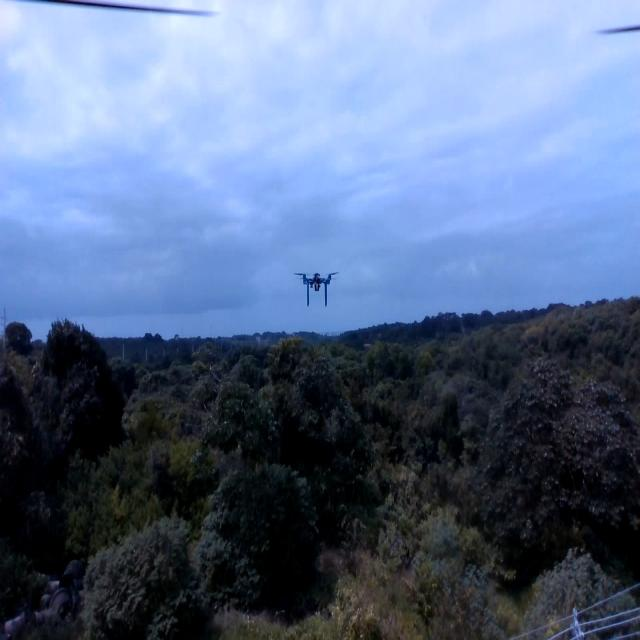-uav-: (288, 261, 346, 320)
